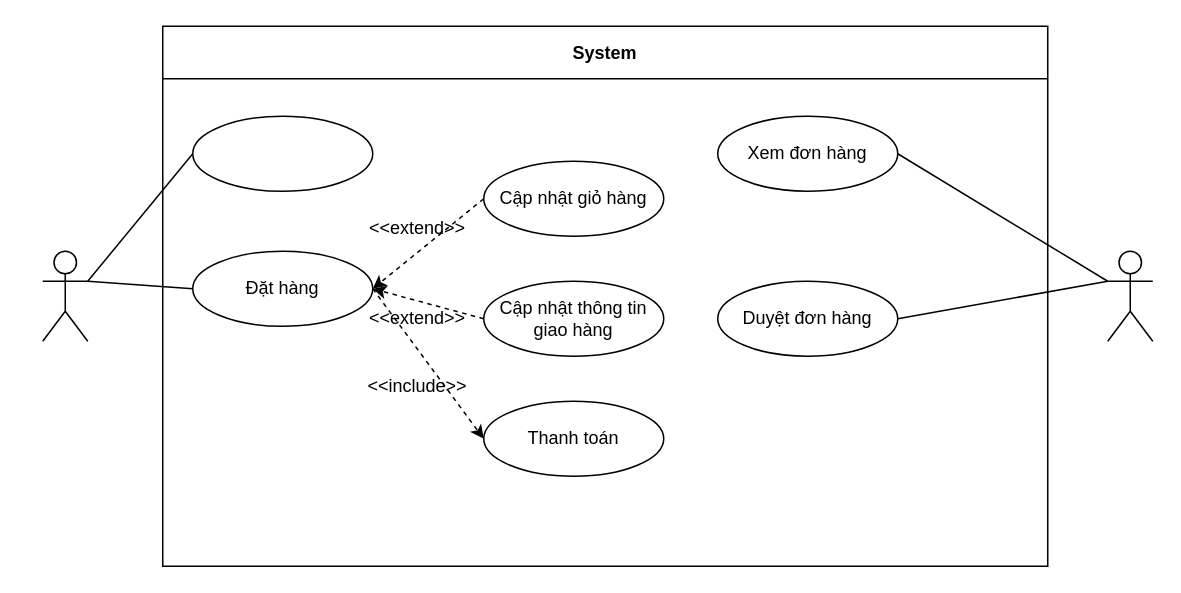
Image size: 1181x593. Some labels were removed from this diagram. Each missing label, with the centre of its shape:
"Admin" goes at pixel 1129 295.
"Customer" goes at pixel 64 295.
"Xem giỏ hàng" goes at pixel 282 153.
